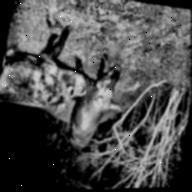boar: (52, 37, 148, 167), (0, 2, 98, 121)
